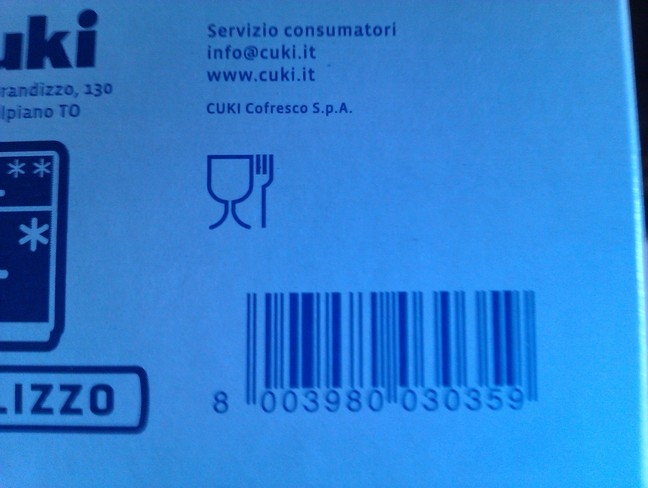detection: (162, 271, 570, 429)
